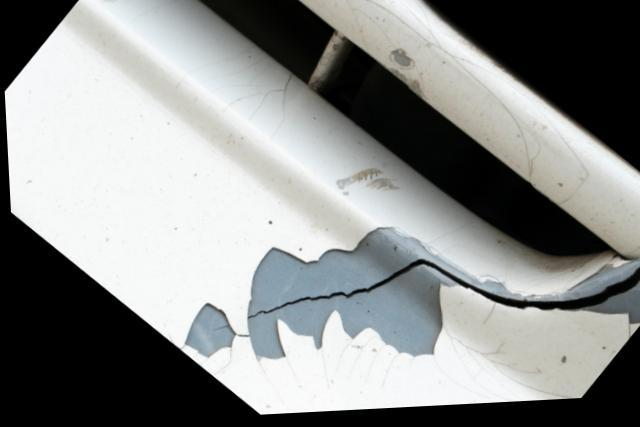crack: (205, 262, 640, 333)
